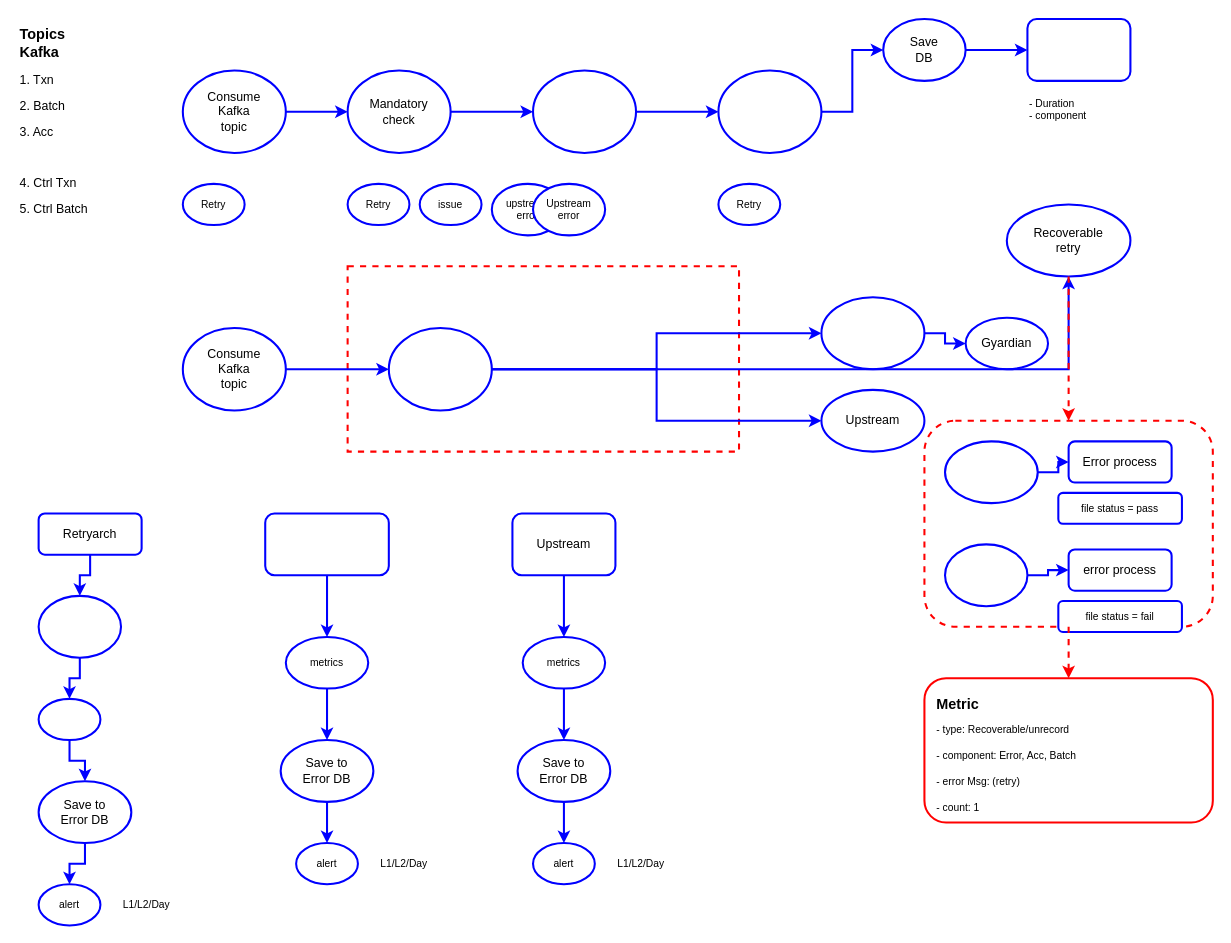
This 1231x943 diagram has some shape labels left out. The centre of each missing label's shape, as x and y in pixels:
"mand. fail" belongs at point (985, 575).
"Metric Duration/ion" belongs at point (1078, 49).
"move" belongs at point (69, 719).
"opt check fail" belongs at point (990, 472).
"Optional Check" belongs at point (584, 111).
"Retry 3 times" belongs at point (79, 626).
"transform" belongs at point (769, 111).
"Trigger engine" belongs at point (439, 369).
"Unrecord code issue" belongs at point (872, 333).
"Unrecordable code issue" belongs at point (326, 544).
